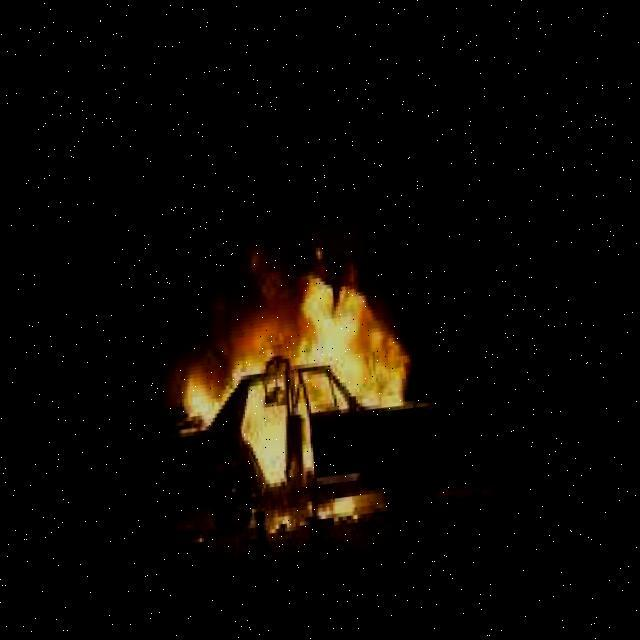Fire: (170, 250, 423, 529)
